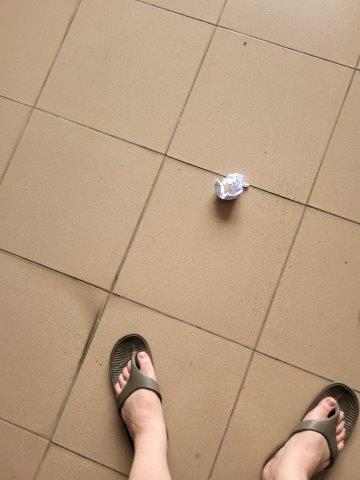kertas: (214, 173, 249, 204)
